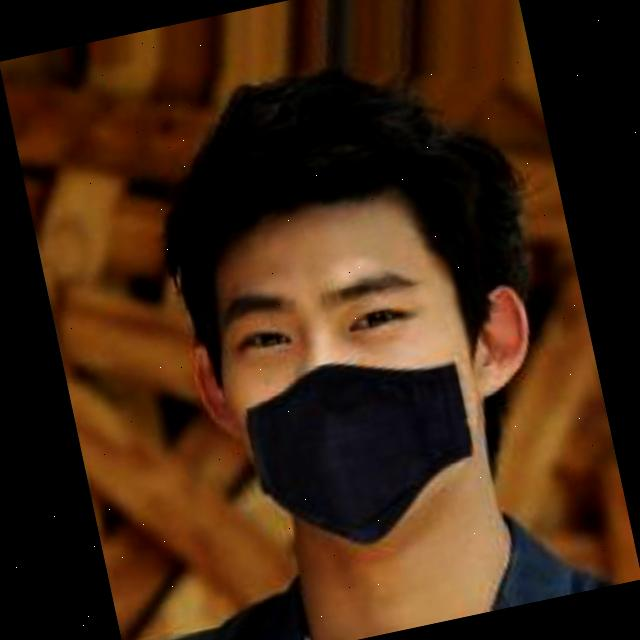suspicion: (112, 47, 586, 597)
